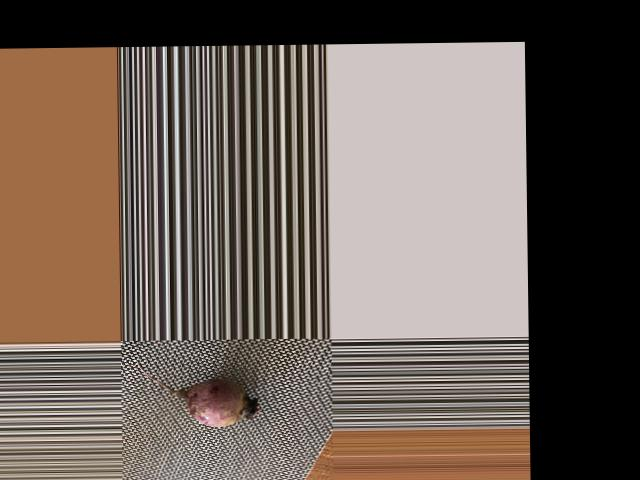beet: (136, 358, 262, 426)
